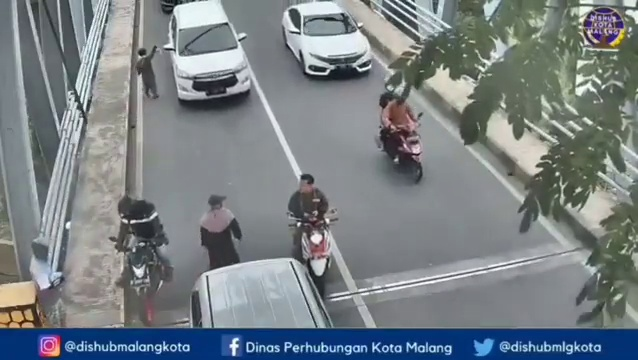car: (167, 1, 251, 103), (277, 2, 374, 78)
motorbike: (110, 190, 172, 322), (290, 174, 332, 301), (379, 76, 423, 188)
